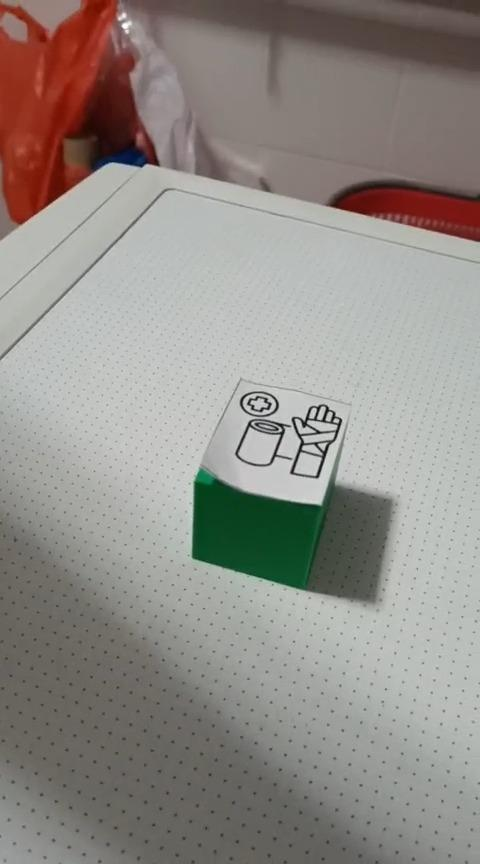Bandages: (189, 377, 352, 589)
